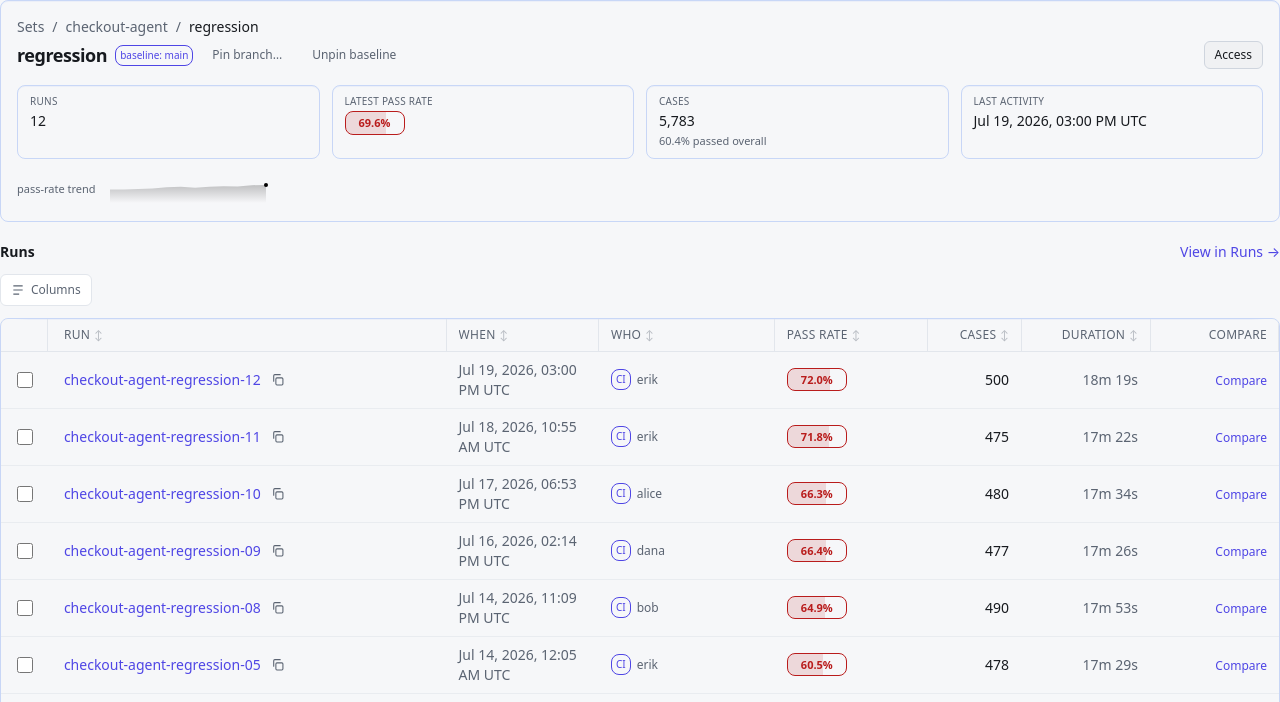
SetSuitePage baseline controls › unpins the baseline after confirming
Expected: the text "baseline: main" is shown, [115,44,193,66]
Click the button "Unpin baseline". click: {"x": 354, "y": 55}
box: [301,41,407,69]
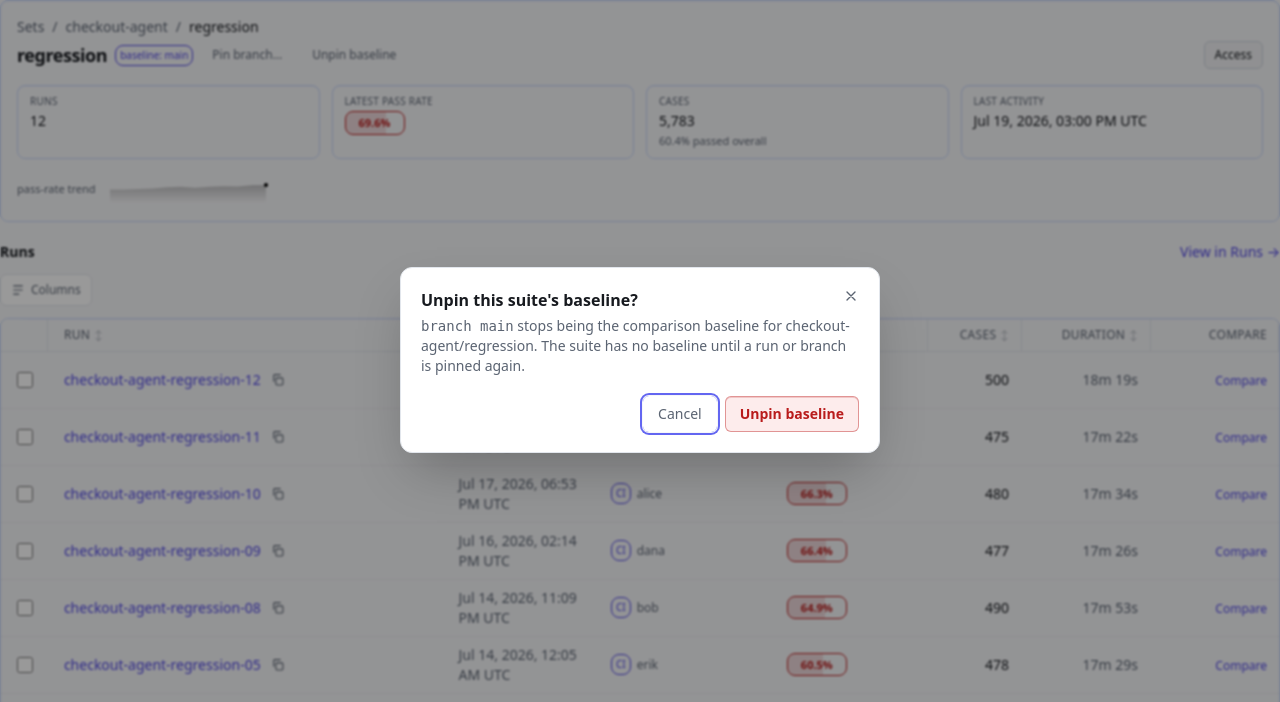
Expected: the text "branch main" is shown, [421,318,514,334]
Click the button "Unpin baseline". click: {"x": 792, "y": 414}
box: [725,396,859,432]
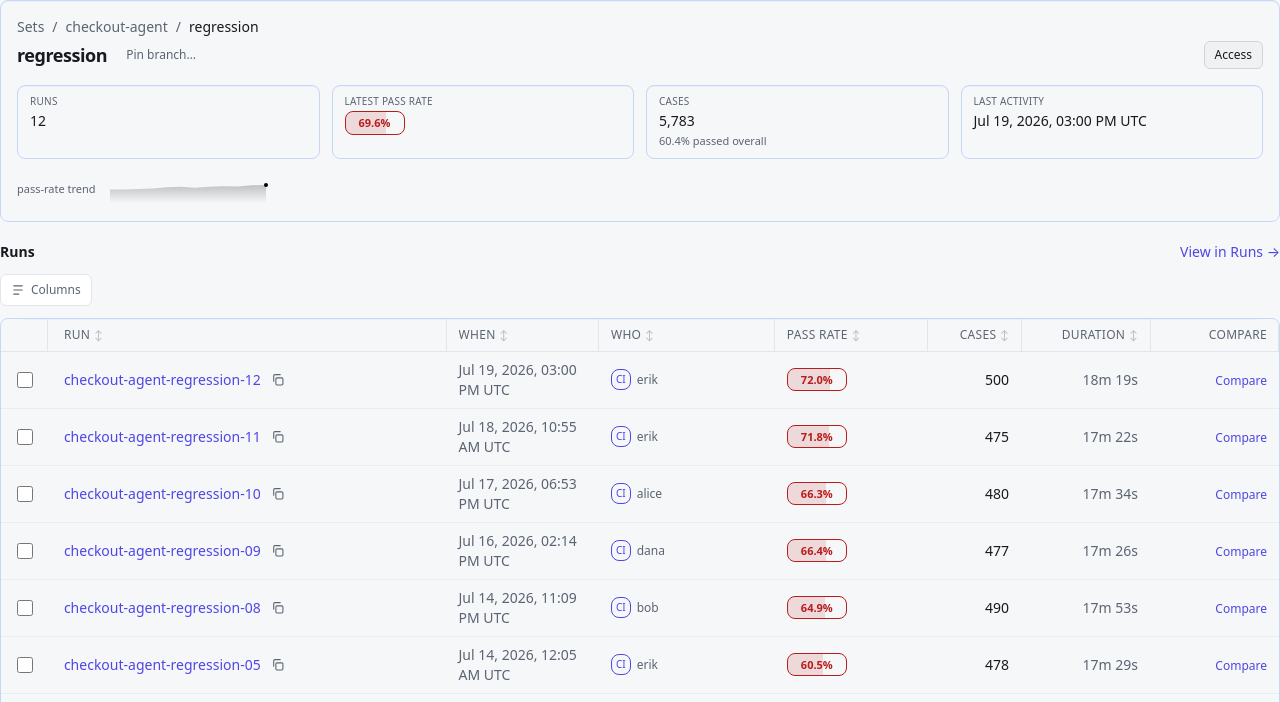
Expected: the text "baseline: main" is gone
Expected: the dialog is gone
Expected: the button "Unpin baseline" is gone
